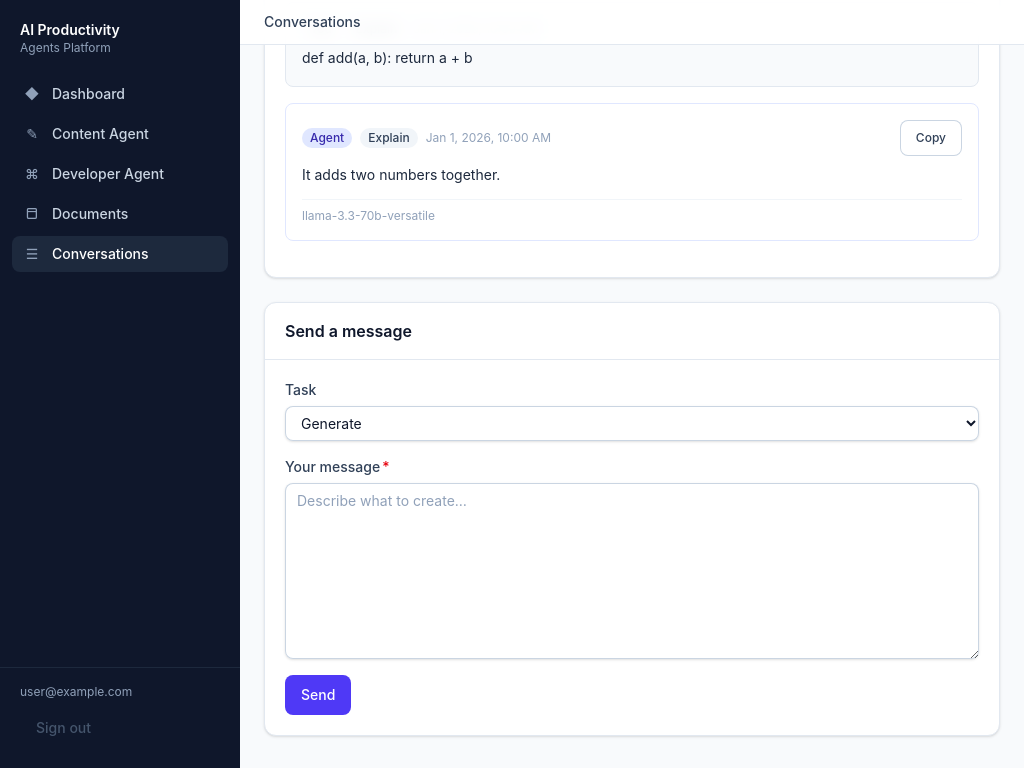
Test case: Conversation detail › disables the send button while waiting for the agent
(page scrolled)
Type "x = 1" into the text box labelled "Your message*". click: (632, 570)
box: x1=285 y1=482 x2=979 y2=658
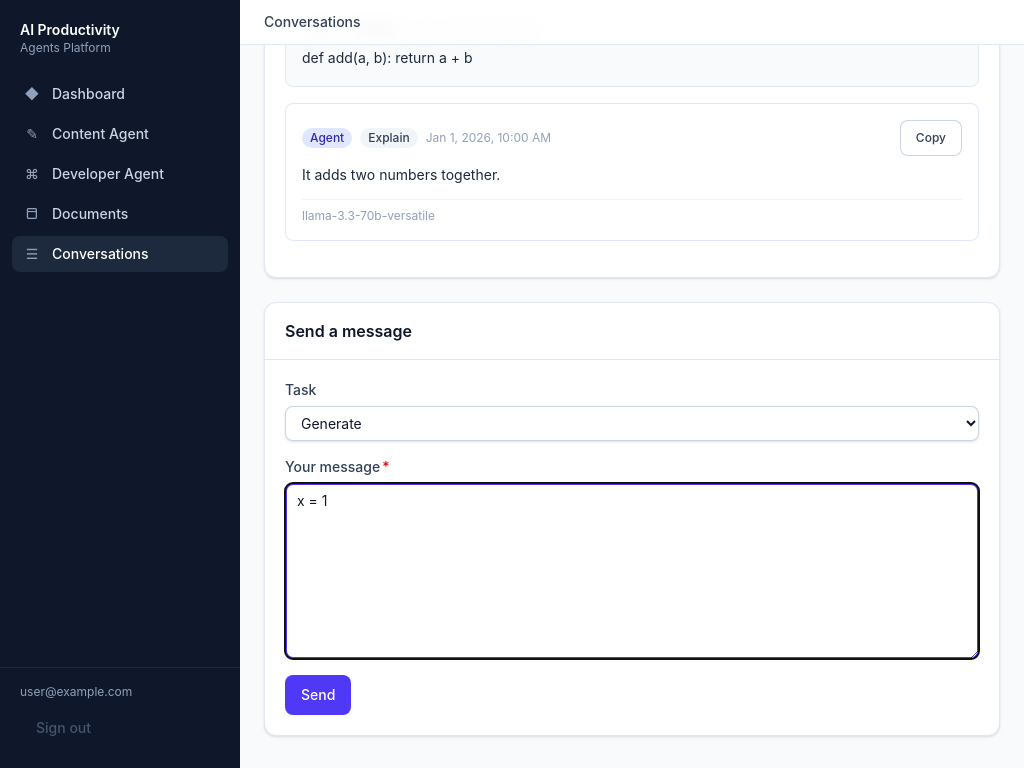
Click the button "Send". click: click(318, 694)
box: x1=285 y1=674 x2=351 y2=714
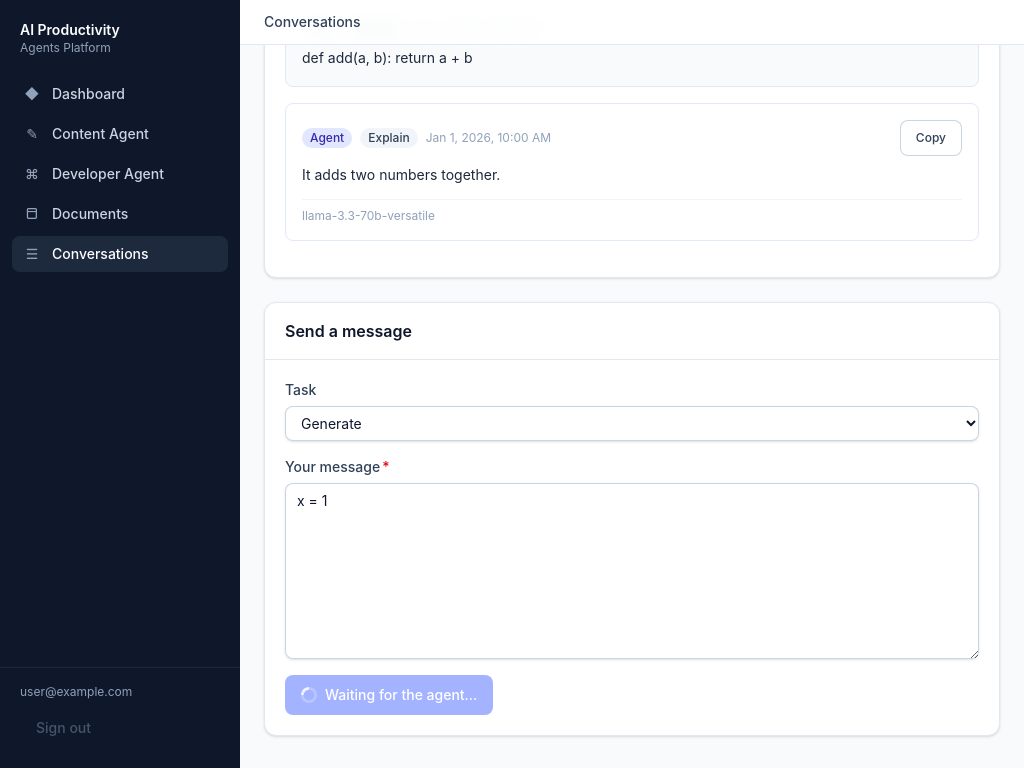
Check: the button "Waiting for the agent…" is disabled, box x1=285 y1=674 x2=493 y2=714
